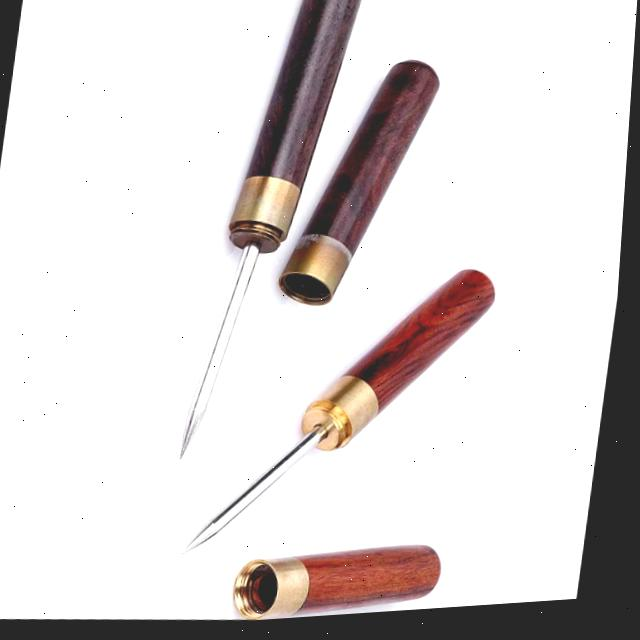ice pick: (184, 252, 506, 578), (181, 0, 363, 471)
